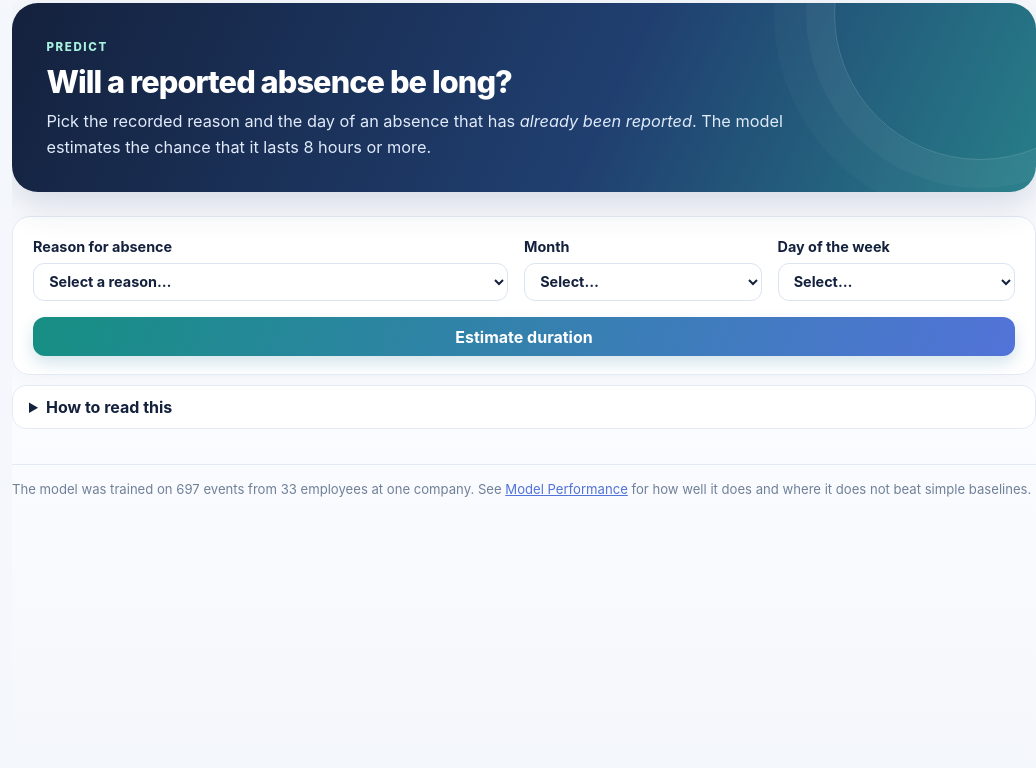
Test: Predict page › shows validation errors and does not call the API when the form is empty
The image size is (1036, 768).
What coordinates should you click on to do the following:
click the button "Estimate duration"
I would click on:
 (524, 337)
Its box is left=33, top=317, right=1015, bottom=356.
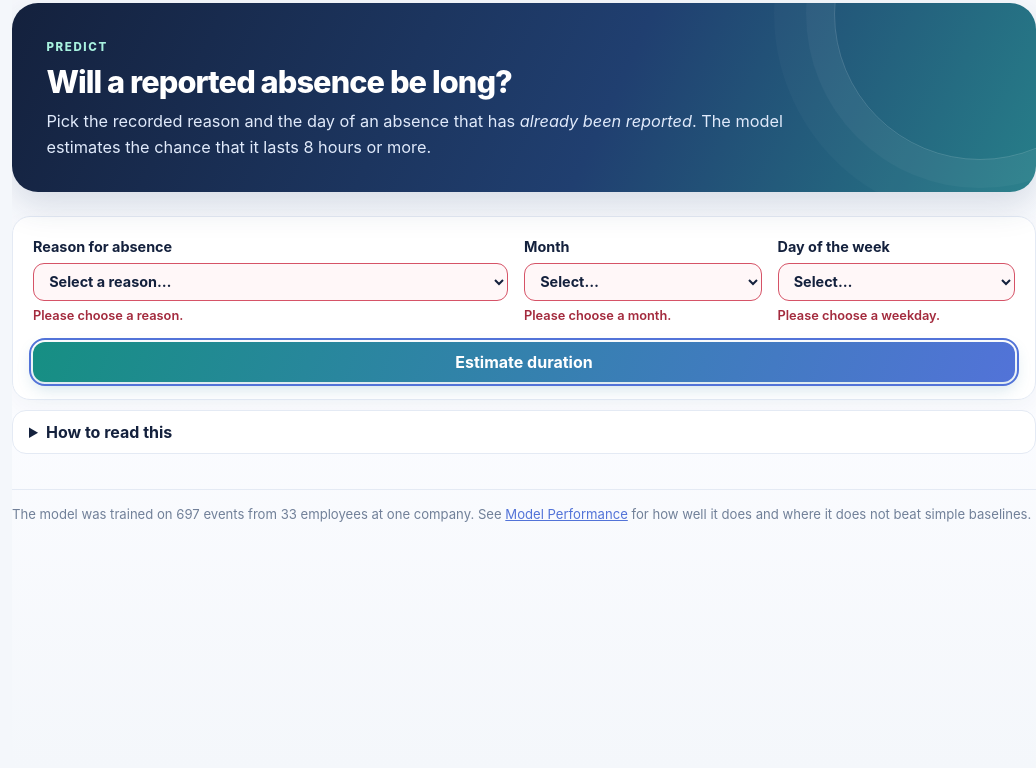
Expected: the text "Please choose a reason." is shown, left=33, top=308, right=183, bottom=323
Expected: the text "Please choose a month." is shown, left=524, top=308, right=671, bottom=323
